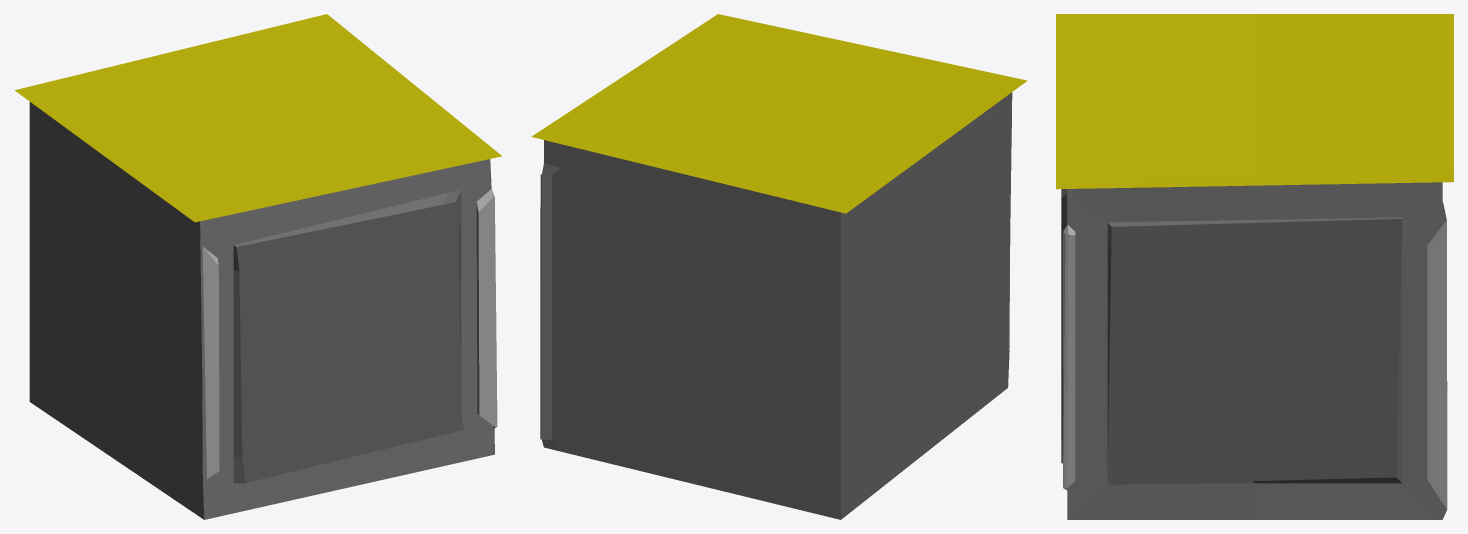
Rendered from cAIXAMetal.fbx.
The picture shows the model from 3 angles, left to right: view 1: azimuth 30°, elevation 25°; view 2: azimuth 150°, elevation 25°; view 3: azimuth 270°, elevation 25°; orthographic projection. The views are drawn at different scales.
Parts seen in each view (by area): view 1: Cube; view 2: Cube; view 3: Cube.
Boxes of the visible parts, x1=… form: Cube: x1=15, y1=14, x2=501, y2=519; Cube: x1=531, y1=14, x2=1027, y2=519; Cube: x1=1056, y1=14, x2=1453, y2=519.
Size of the model in its own units: 212 by 201 by 212.
